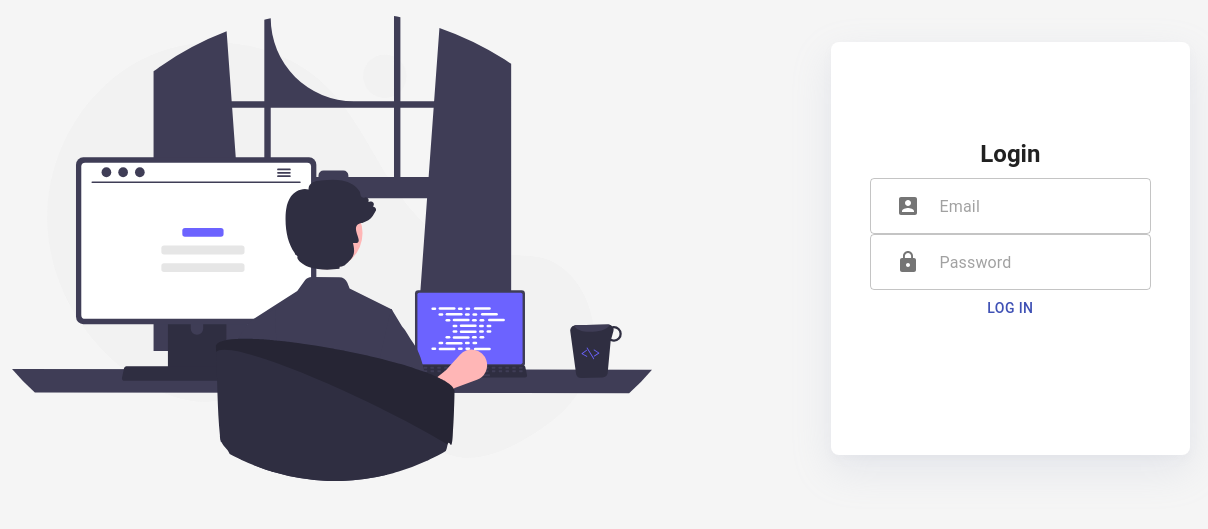
Scenario: Form should not be submitted when email or password is not given
Step 1. Click the button with test id "login-button" → (1010, 308), box top-left (870, 290), bottom-right (1151, 326)
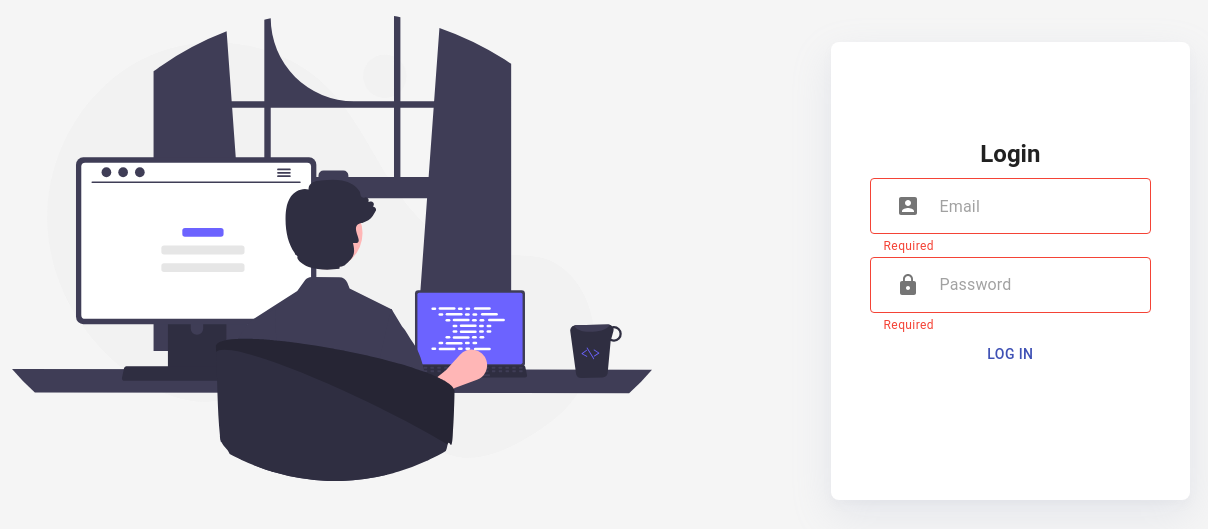
Expected: the text "Required" is shown 2 times, top-left (884, 239), bottom-right (934, 253); top-left (884, 318), bottom-right (934, 332)
